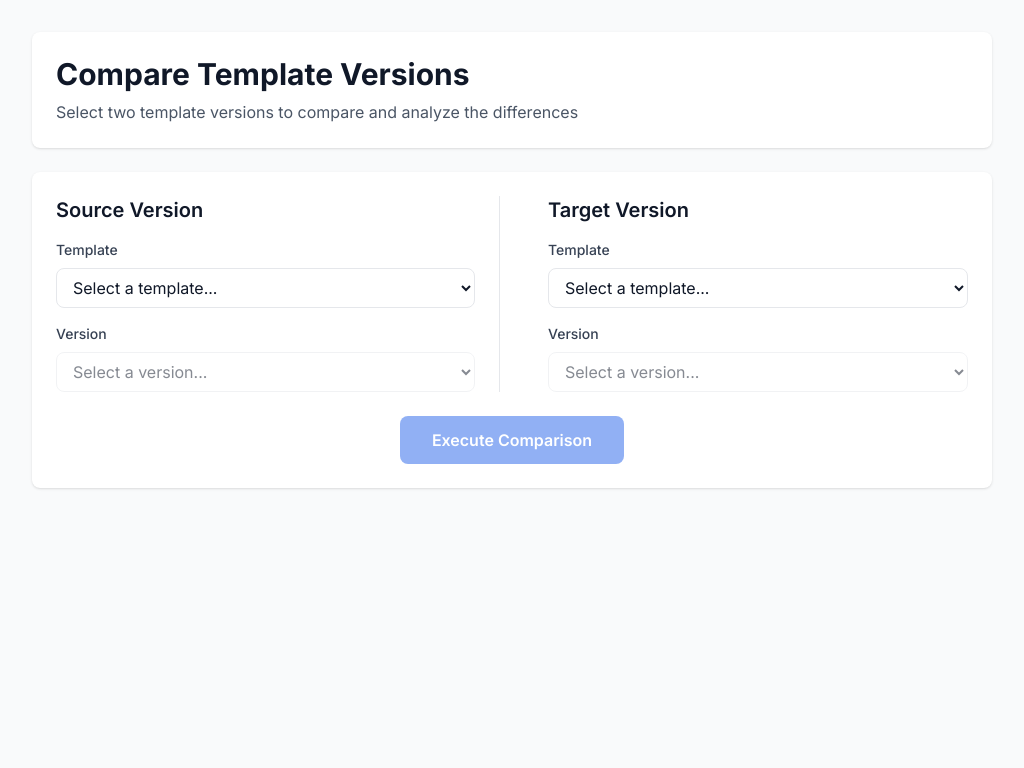
Test case: CreateComparisonPage › Version Selection › should display version details when version is selected
Select template
Select "Template A" in the dropdown named "Select source template". click: (266, 288)
box: [56,268,475,308]
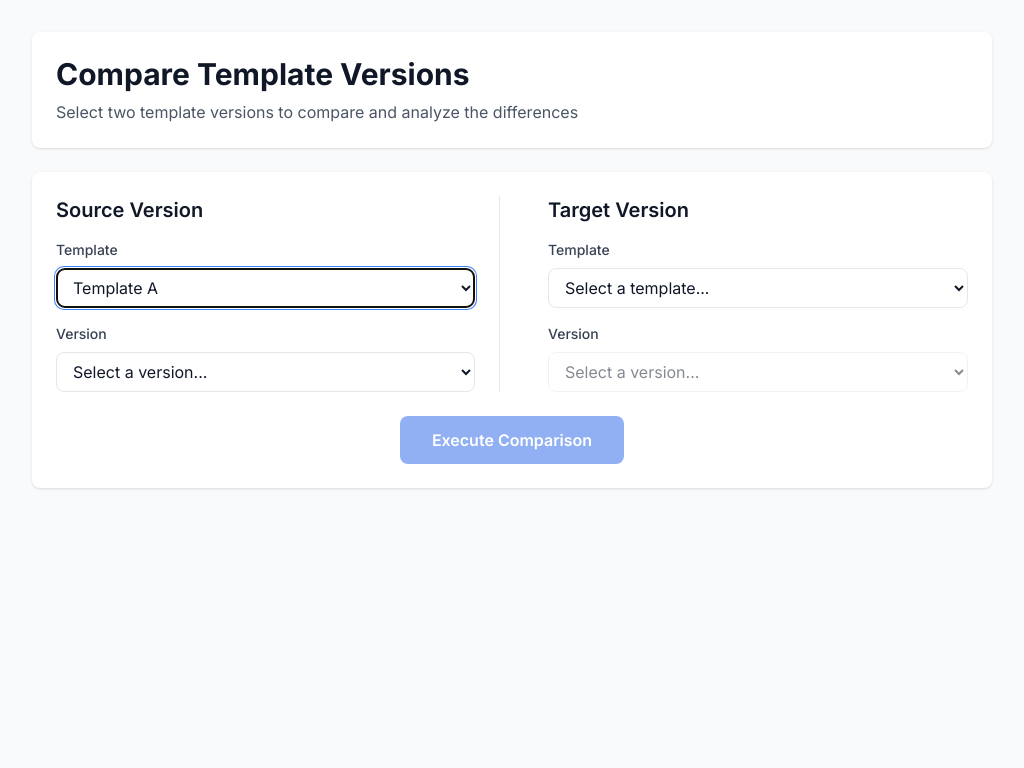
Now the dropdown named "Select source version" is enabled
Select version
Select "2024-Q1 (Current)" in the dropdown named "Select source version". click: (266, 372)
box: [56,352,475,392]
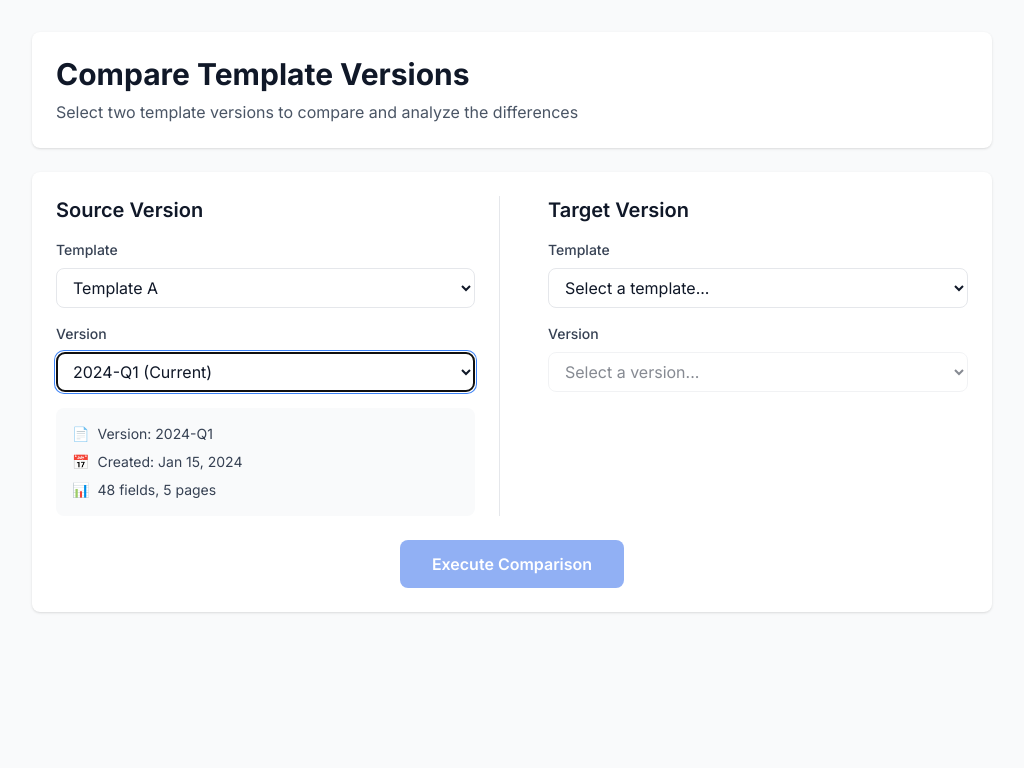
Now the text "Version: 2024-Q1" is shown, box [98,424,213,444]
Now the text "Created: Jan 15, 2024" is shown, box [98,452,242,472]
Now the text "48 fields, 5 pages" is shown, box [98,480,216,500]
